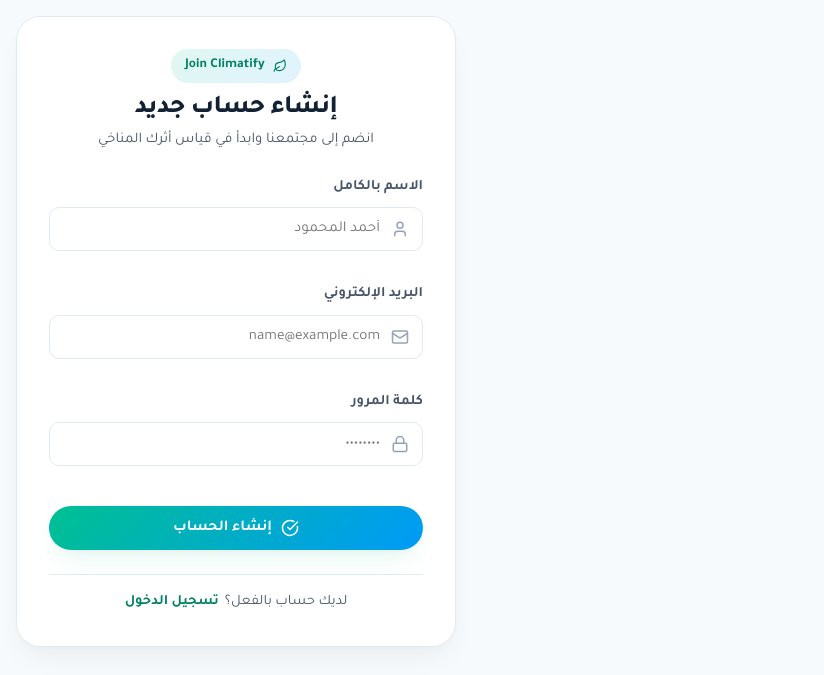
Test: auth form validation › register success + auto-login failure redirects to /login with a clear notice
Type "تجربة إقليمية" into the field labelled "الاسم بالكامل" at (236, 230), box [49,208,423,252]
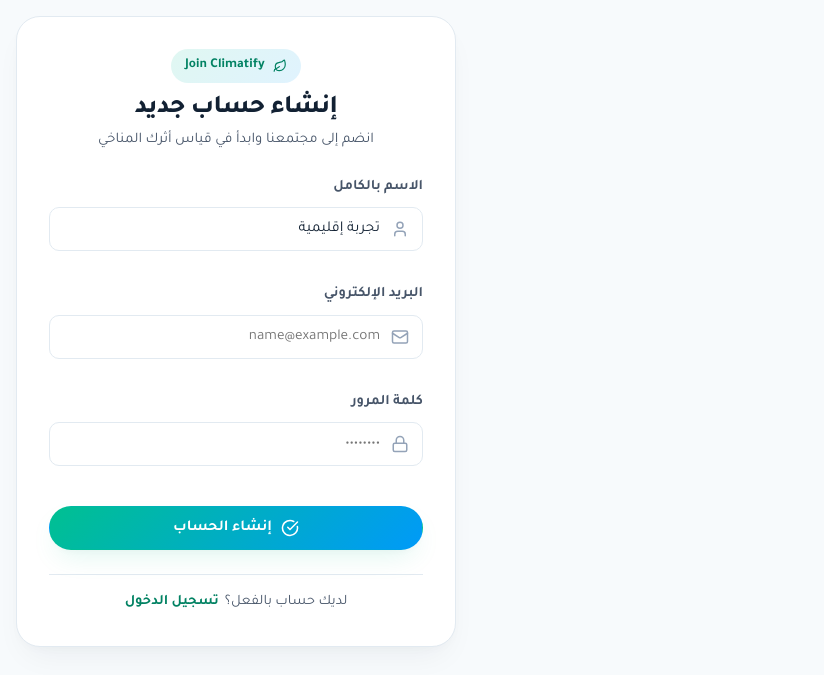
Type "notice-test@example.com" into the field labelled "البريد الإلكتروني" at (236, 336), box [49,314,423,358]
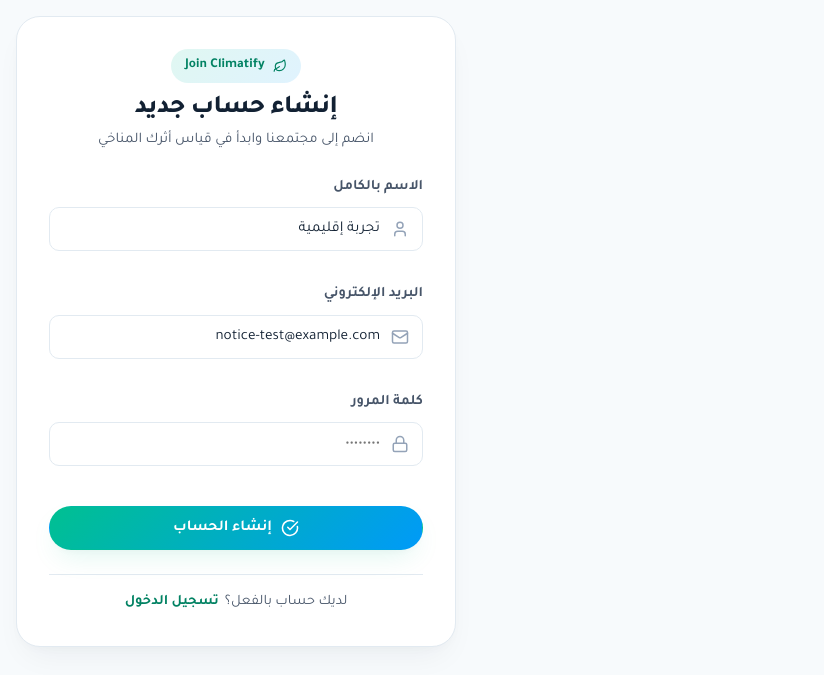
Type "secret123" into the password field labelled "كلمة المرور" at (236, 444), box [49,422,423,466]
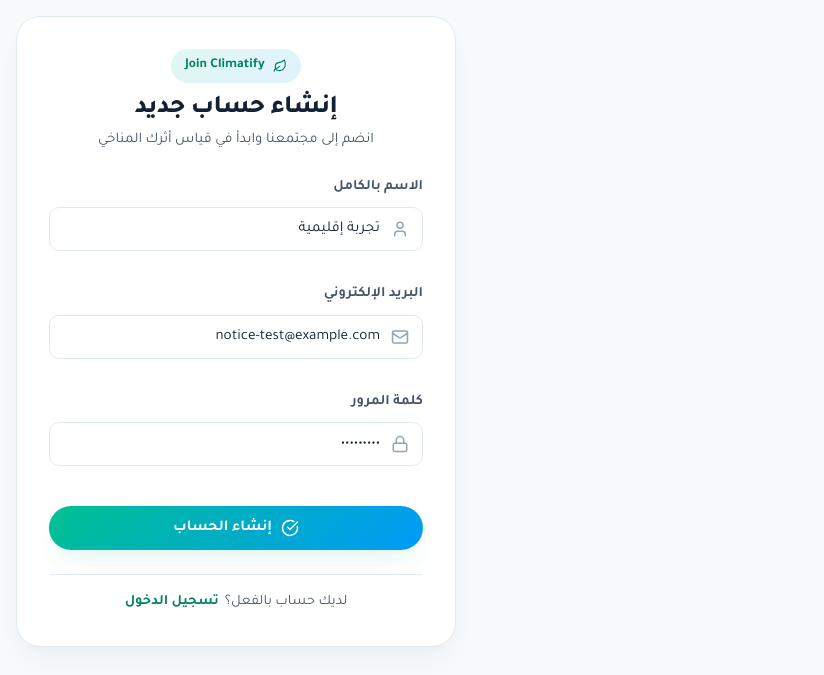
Click the button "إنشاء الحساب" at (236, 528), box [49,506,423,550]
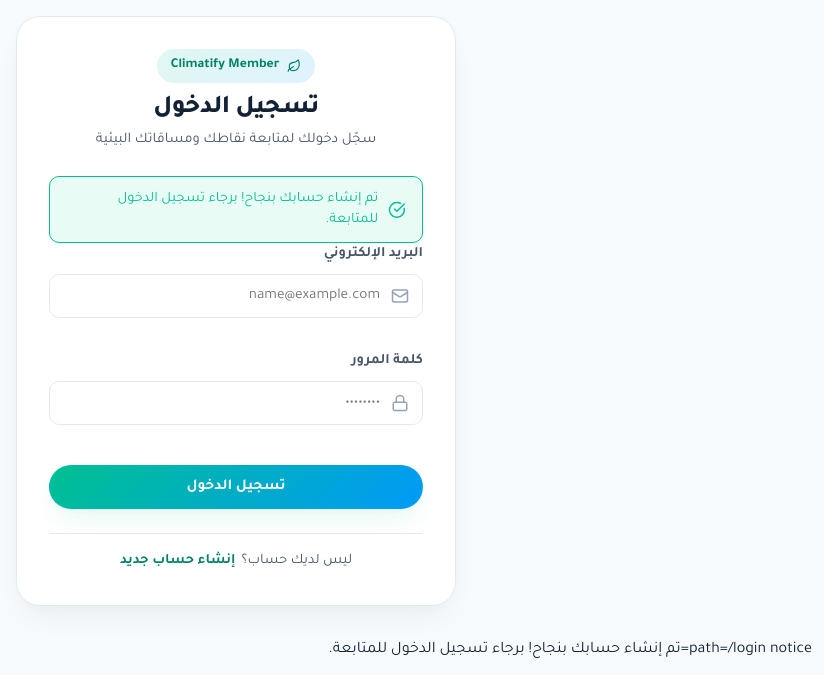
Expected: the text with test id "location-probe" shows "path=/login", [328,642,812,658]
Expected: the text with test id "location-probe" shows "تم إنشاء حسابك بنجاح", [328,642,681,658]
